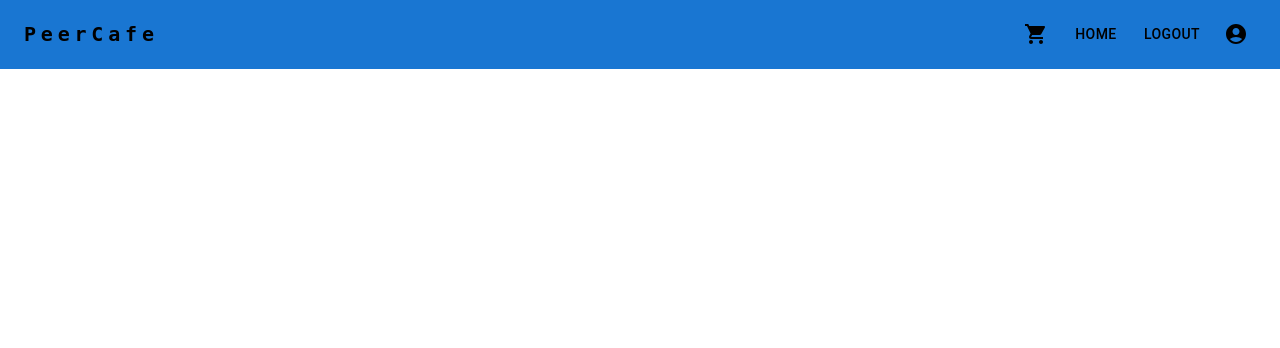
ResponsiveAppBar Component › opens cart dropdown when cart icon is clicked
Note: Wait for cart to be available
Click the button named "shopping cart" at [1036, 34], box [1016,14,1056,54]
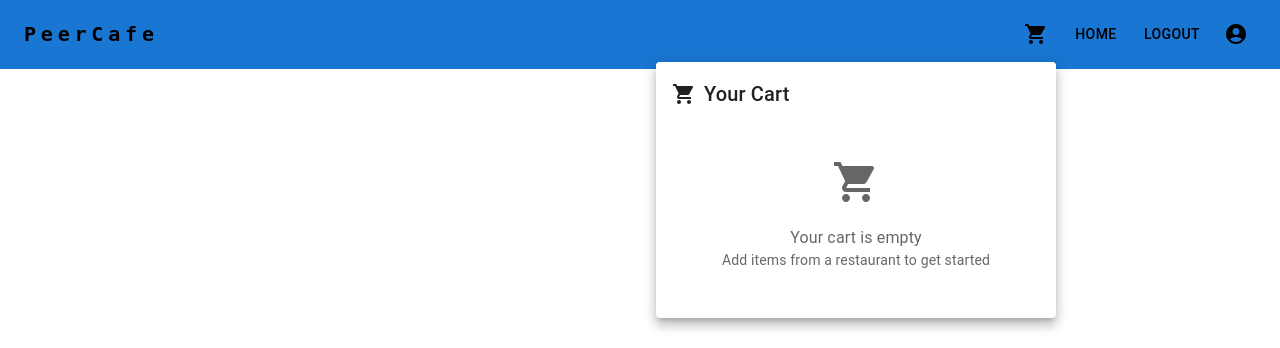
Result: the heading "Your Cart" is shown at [672,78,790,110]
